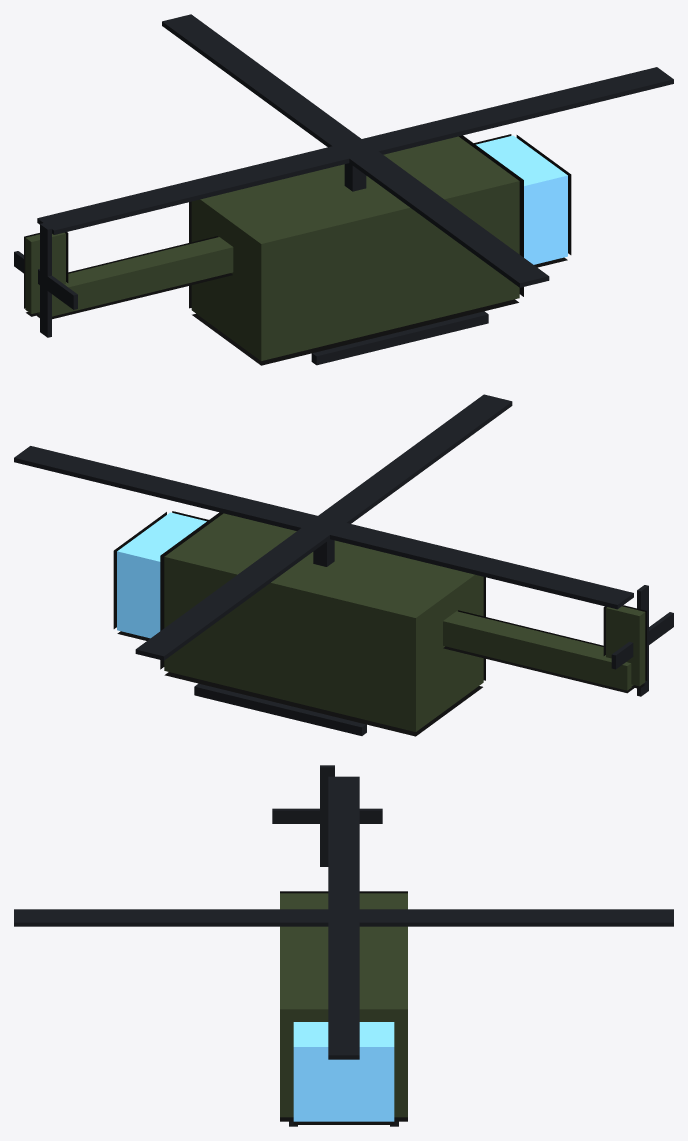
File: streak_care_package.glb
3 renders of one model, top to bottom at view 1: azimuth 30°, elevation 25°; view 2: azimuth 150°, elevation 25°; view 3: azimuth 270°, elevation 25°, orthographic. The views are drawn at different scales.
Visible parts, largest first — view 1: streak_care_package__part_1, streak_care_package__part_11, streak_care_package__part_12, streak_care_package__part_5, streak_care_package__part_3, streak_care_package__outline_2, streak_care_package__part_17, streak_care_package__part_7, streak_care_package__part_14, streak_care_package__outline_6, streak_care_package__part_15, streak_care_package__outline_4; view 2: streak_care_package__part_1, streak_care_package__part_11, streak_care_package__part_12, streak_care_package__part_5, streak_care_package__part_3, streak_care_package__outline_2, streak_care_package__part_16, streak_care_package__part_7, streak_care_package__outline_6, streak_care_package__part_15, streak_care_package__outline_4, streak_care_package__part_14; view 3: streak_care_package__part_1, streak_care_package__part_12, streak_care_package__part_3, streak_care_package__part_11, streak_care_package__part_15, streak_care_package__part_14.
Part boxes in pixels (<box>): streak_care_package__part_1: <box>191,136,519,361</box>; streak_care_package__part_11: <box>37,67,673,234</box>; streak_care_package__part_12: <box>162,14,549,287</box>; streak_care_package__part_5: <box>37,237,233,316</box>; streak_care_package__part_3: <box>476,135,567,264</box>; streak_care_package__outline_2: <box>189,135,523,365</box>; streak_care_package__part_17: <box>311,311,488,365</box>; streak_care_package__part_7: <box>25,232,65,313</box>; streak_care_package__part_14: <box>40,223,51,337</box>; streak_care_package__outline_6: <box>37,236,232,319</box>; streak_care_package__part_15: <box>14,251,77,309</box>; streak_care_package__outline_4: <box>474,134,571,267</box>; streak_care_package__part_1: <box>164,513,483,731</box>; streak_care_package__part_11: <box>14,446,633,609</box>; streak_care_package__part_12: <box>135,394,512,660</box>; streak_care_package__part_5: <box>443,611,633,690</box>; streak_care_package__part_3: <box>117,512,206,638</box>; streak_care_package__outline_2: <box>160,512,485,736</box>; streak_care_package__part_16: <box>194,683,366,735</box>; streak_care_package__part_7: <box>606,606,645,686</box>; streak_care_package__outline_6: <box>443,610,634,693</box>; streak_care_package__part_15: <box>611,612,673,669</box>; streak_care_package__outline_4: <box>113,511,208,640</box>; streak_care_package__part_14: <box>637,585,648,696</box>; streak_care_package__part_1: <box>280,893,407,1117</box>; streak_care_package__part_12: <box>14,909,673,926</box>; streak_care_package__part_3: <box>293,1022,394,1121</box>; streak_care_package__part_11: <box>328,776,359,1059</box>; streak_care_package__part_15: <box>272,808,382,823</box>; streak_care_package__part_14: <box>320,765,334,866</box>.
Size of the model in its own units: 7.43 by 2.05 by 7.2.
